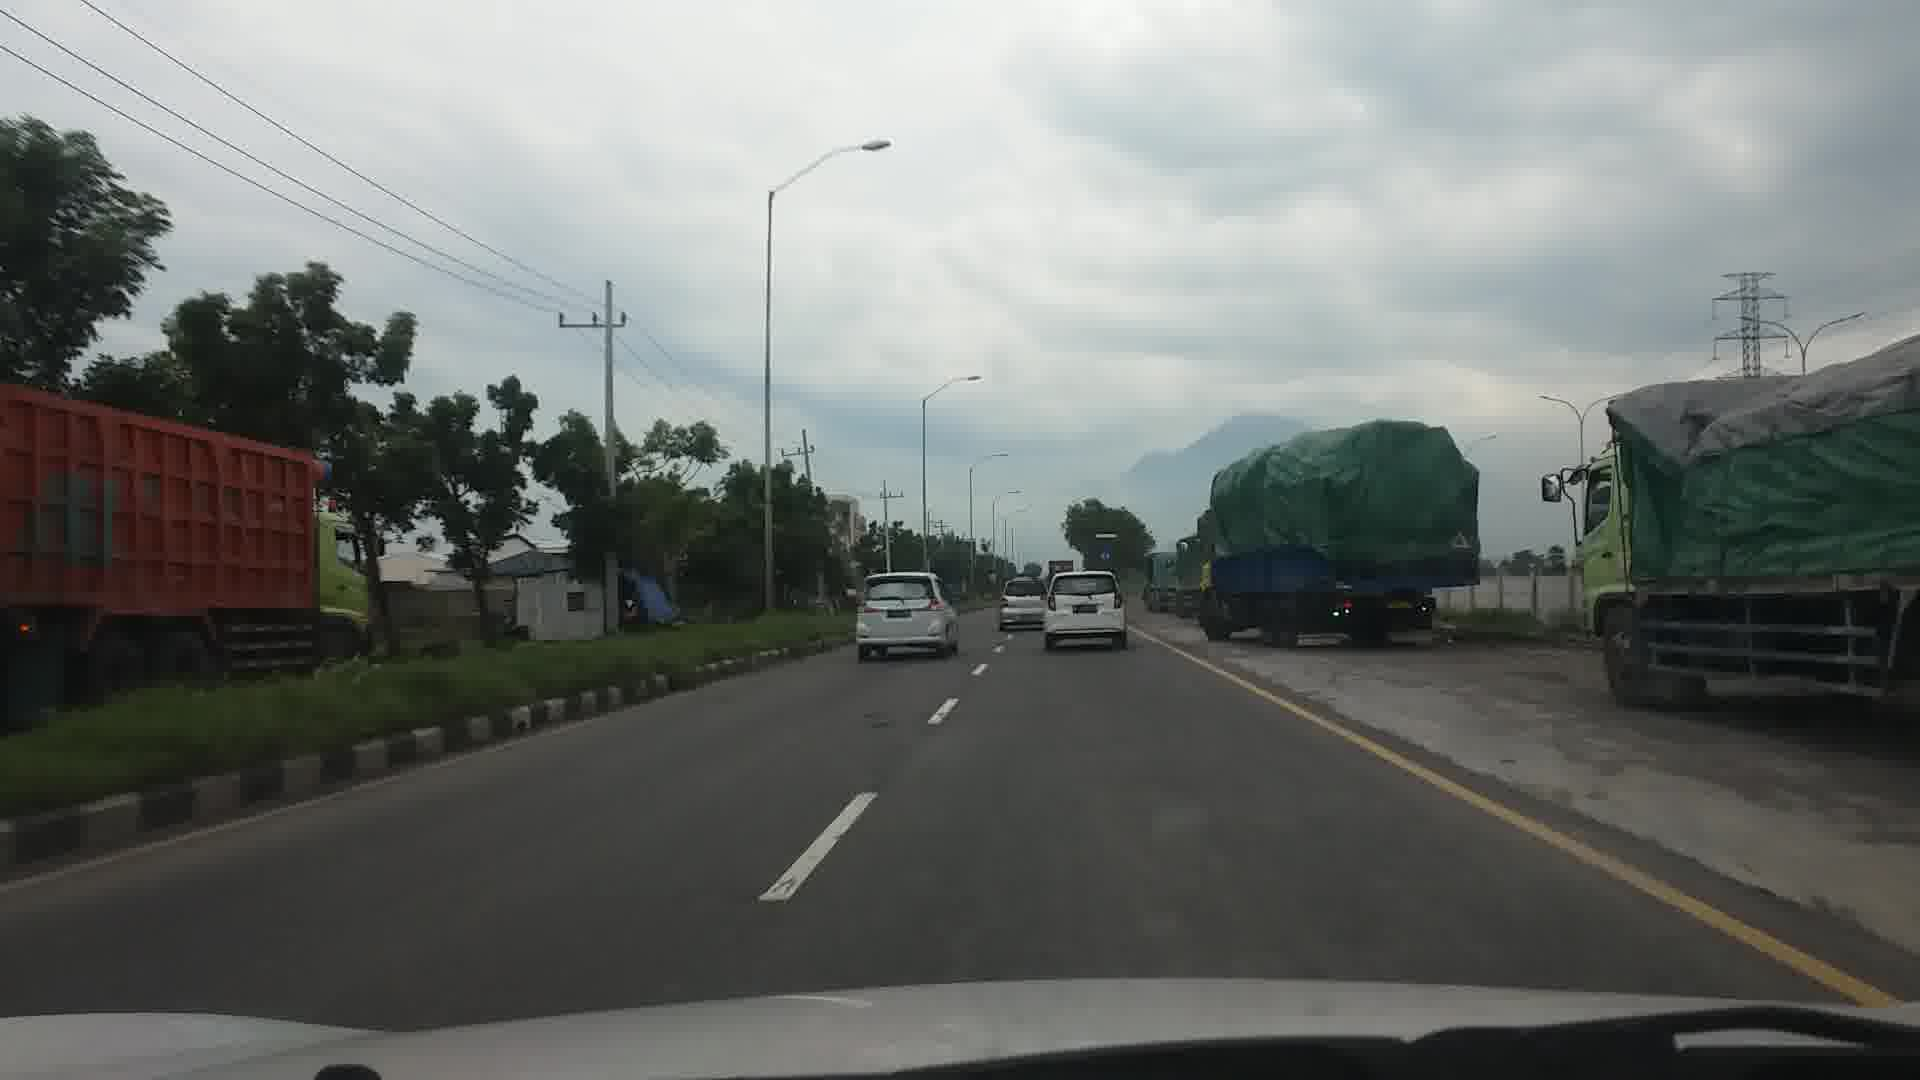plate_positive: (1072, 605, 1097, 615), (887, 609, 909, 617)
